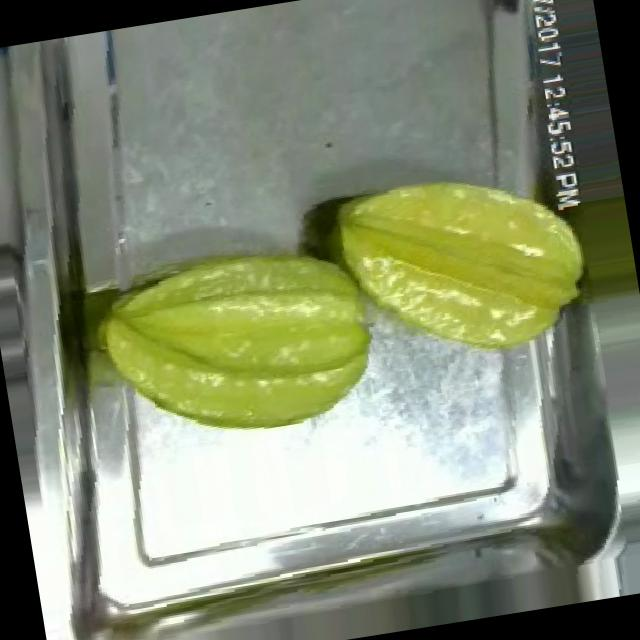fruit: (73, 208, 400, 471), (314, 142, 602, 382)
